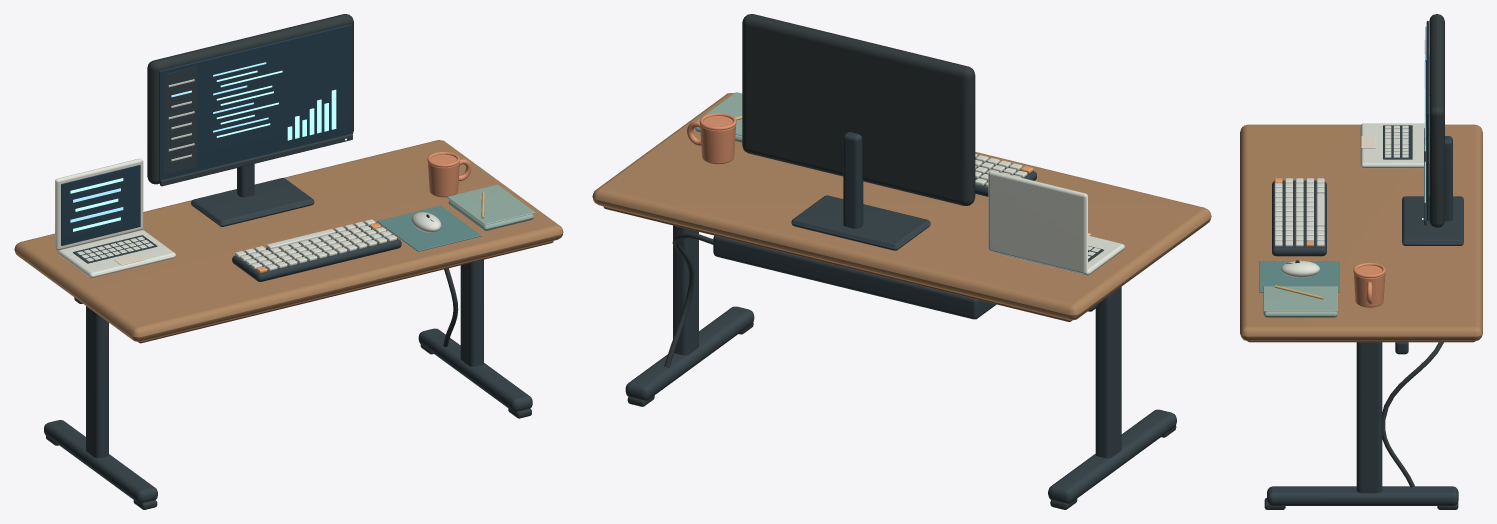
Rendered from desk.glb.
3 views of the same model, side by side, from view 1: azimuth 30°, elevation 25°; view 2: azimuth 150°, elevation 25°; view 3: azimuth 270°, elevation 25° (orthographic). The views are drawn at different scales.
Parts seen in each view (by area): view 1: DeskRoot.Oak, DeskRoot.Graphite, DeskRoot.Screen, DeskRoot.KeyIvory, DeskRoot.PlasticDark, DeskRoot.ScreenLine, DeskRoot.BookSage, DeskRoot.ChairFabric, DeskRoot.Ceramic, DeskRoot.OakEdge, DeskRoot.ScreenBlue; view 2: DeskRoot.Oak, DeskRoot.PlasticDark, DeskRoot.Graphite, DeskRoot.KeyIvory, DeskRoot.Ceramic, DeskRoot.OakEdge, DeskRoot.BookSage; view 3: DeskRoot.Oak, DeskRoot.Graphite, DeskRoot.KeyIvory, DeskRoot.PlasticDark, DeskRoot.BookSage, DeskRoot.ChairFabric, DeskRoot.Ceramic, DeskRoot.Screen, DeskRoot.OakEdge, DeskRoot.Paper.
Part boxes in pixels (left/top/right/bottom): DeskRoot.Oak: left=14, top=140, right=563, bottom=341; DeskRoot.Graphite: left=44, top=66, right=532, bottom=503; DeskRoot.Screen: left=61, top=24, right=351, bottom=245; DeskRoot.KeyIvory: left=55, top=79, right=441, bottom=277; DeskRoot.PlasticDark: left=46, top=14, right=531, bottom=509; DeskRoot.ScreenLine: left=70, top=70, right=346, bottom=231; DeskRoot.BookSage: left=447, top=184, right=535, bottom=230; DeskRoot.ChairFabric: left=377, top=205, right=481, bottom=251; DeskRoot.Ceramic: left=427, top=151, right=471, bottom=197; DeskRoot.OakEdge: left=138, top=241, right=553, bottom=343; DeskRoot.ScreenBlue: left=70, top=62, right=268, bottom=222; DeskRoot.Oak: left=592, top=93, right=1211, bottom=320; DeskRoot.PlasticDark: left=627, top=14, right=1176, bottom=509; DeskRoot.Graphite: left=625, top=132, right=1176, bottom=503; DeskRoot.KeyIvory: left=975, top=154, right=1124, bottom=275; DeskRoot.Ceramic: left=687, top=113, right=736, bottom=164; DeskRoot.OakEdge: left=603, top=206, right=1071, bottom=321; DeskRoot.BookSage: left=695, top=92, right=742, bottom=142; DeskRoot.Oak: left=1240, top=124, right=1482, bottom=341; DeskRoot.Graphite: left=1267, top=27, right=1463, bottom=505; DeskRoot.KeyIvory: left=1274, top=40, right=1429, bottom=277; DeskRoot.PlasticDark: left=1264, top=14, right=1458, bottom=509; DeskRoot.BookSage: left=1263, top=286, right=1337, bottom=317; DeskRoot.ChairFabric: left=1259, top=261, right=1339, bottom=292; DeskRoot.Ceramic: left=1353, top=262, right=1385, bottom=307; DeskRoot.Screen: left=1425, top=21, right=1428, bottom=220; DeskRoot.OakEdge: left=1247, top=341, right=1475, bottom=342; DeskRoot.Paper: left=1266, top=136, right=1375, bottom=312.
Size of the model in its own units: 1.82 by 1.46 by 0.9.
